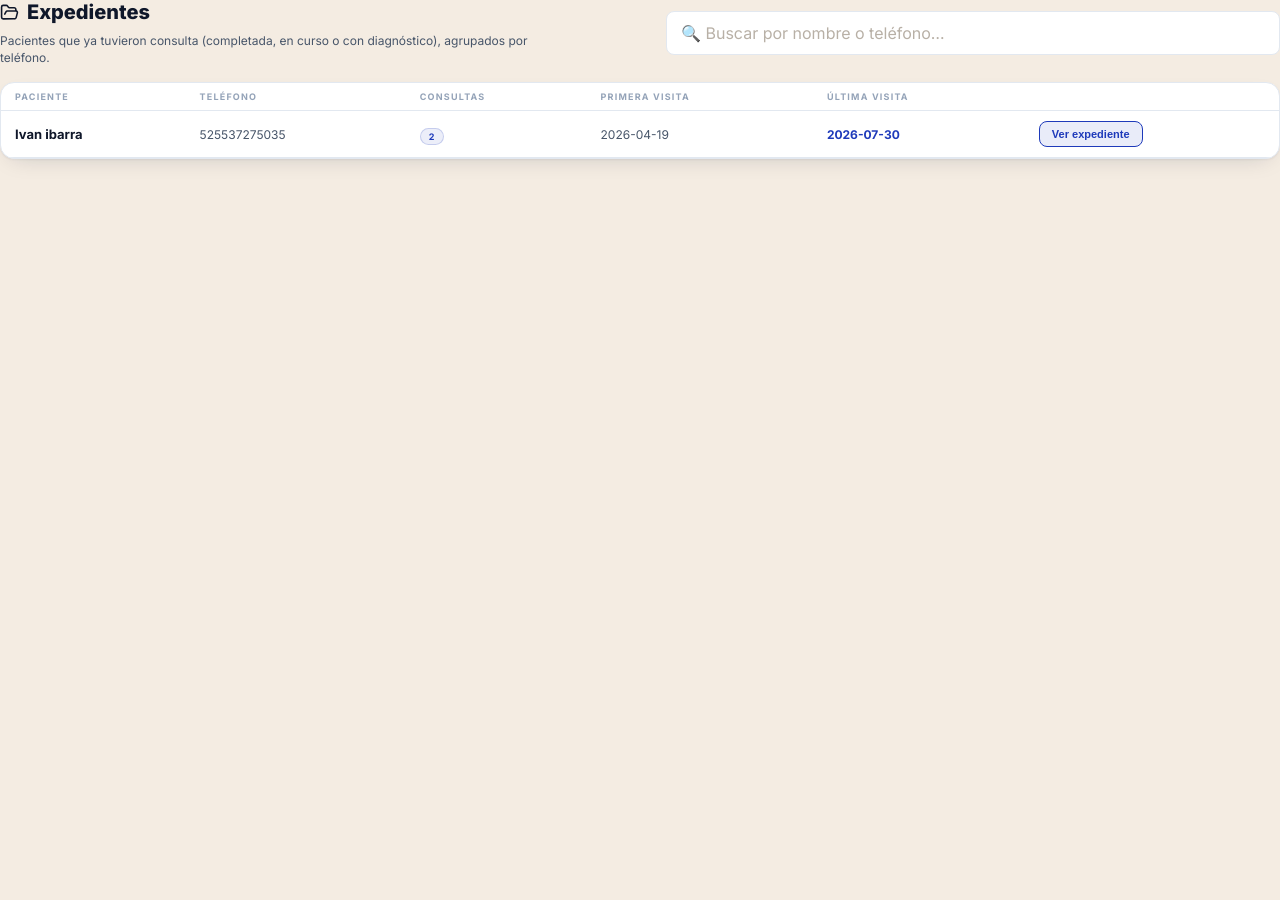
Test case: cerrar la ficha vuelve al expediente del paciente, no a la lista
Check: the text "Ivan ibarra" is shown, box [1,111,186,158]
Click the button "Ver expediente".
click(1091, 134)  # box [1039,121,1143,147]
(page scrolled)
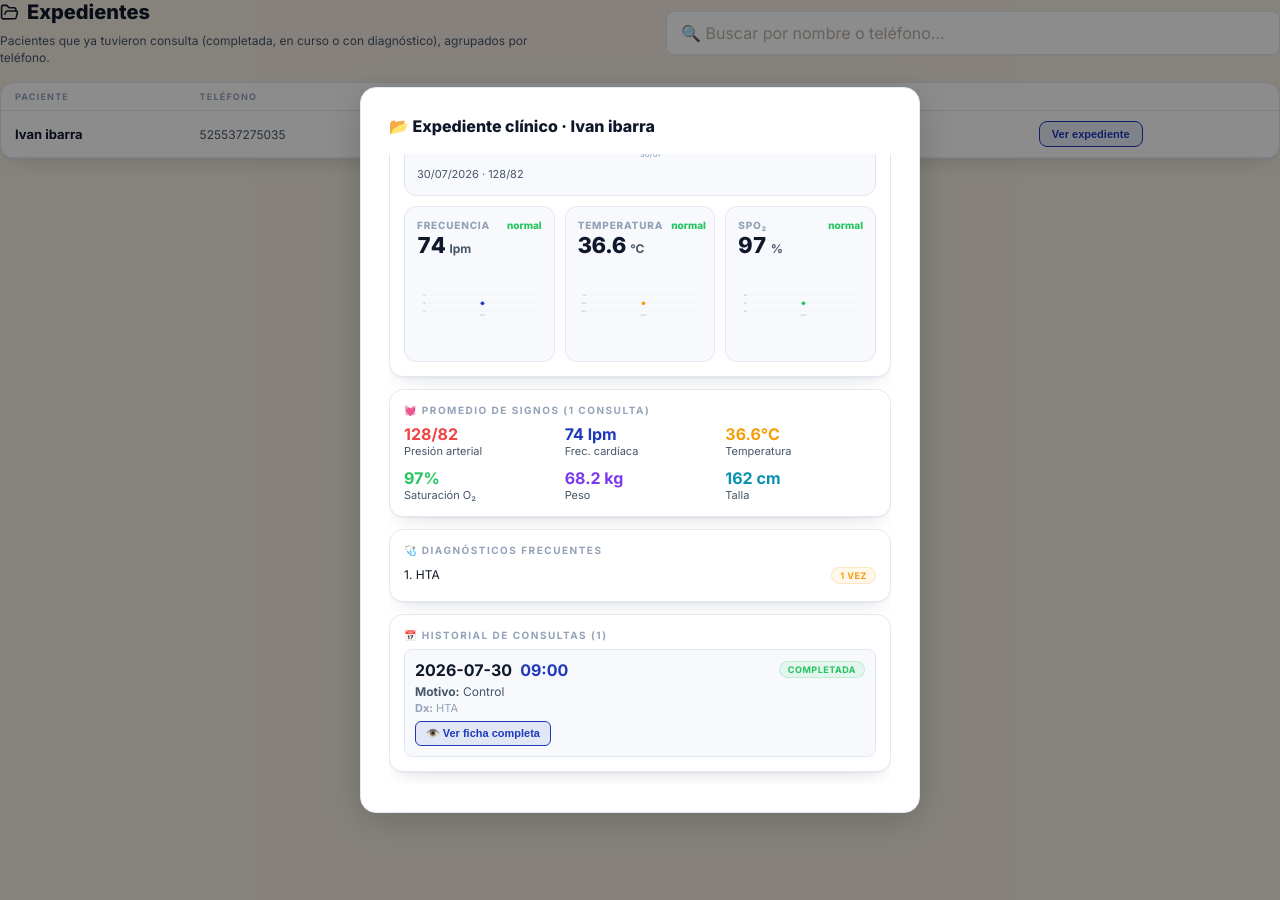
Check: the text "📅 Historial de consultas (1)" is shown, box [404,629,608,641]
Click the button "👁️ Ver ficha completa".
click(483, 733)  # box [415,721,551,746]
(page scrolled)
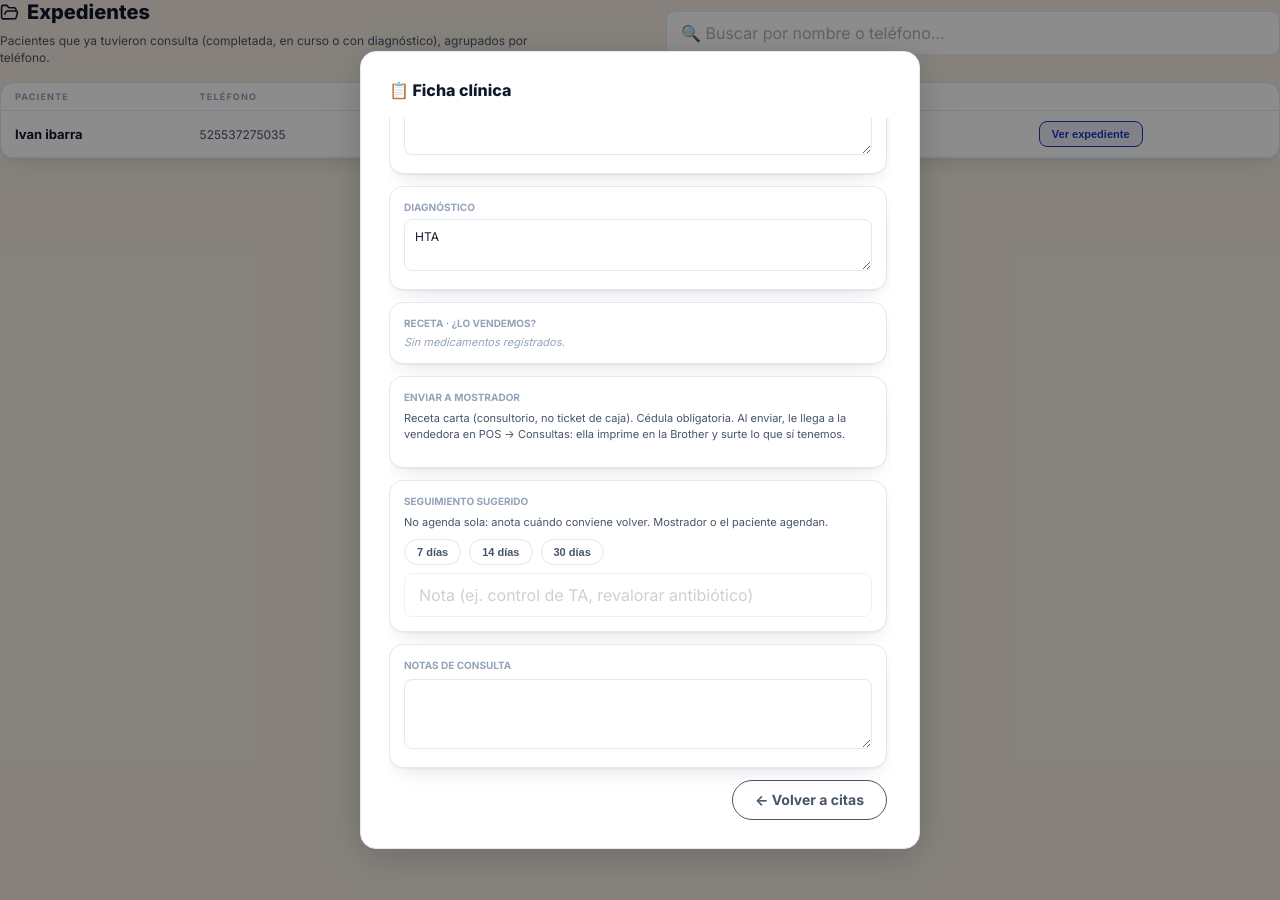
Check: the button "← Volver a citas" is shown
Check: the text "Historial de consultas" is gone
Click the button "← Volver a citas".
click(810, 800)  # box [732,780,887,820]
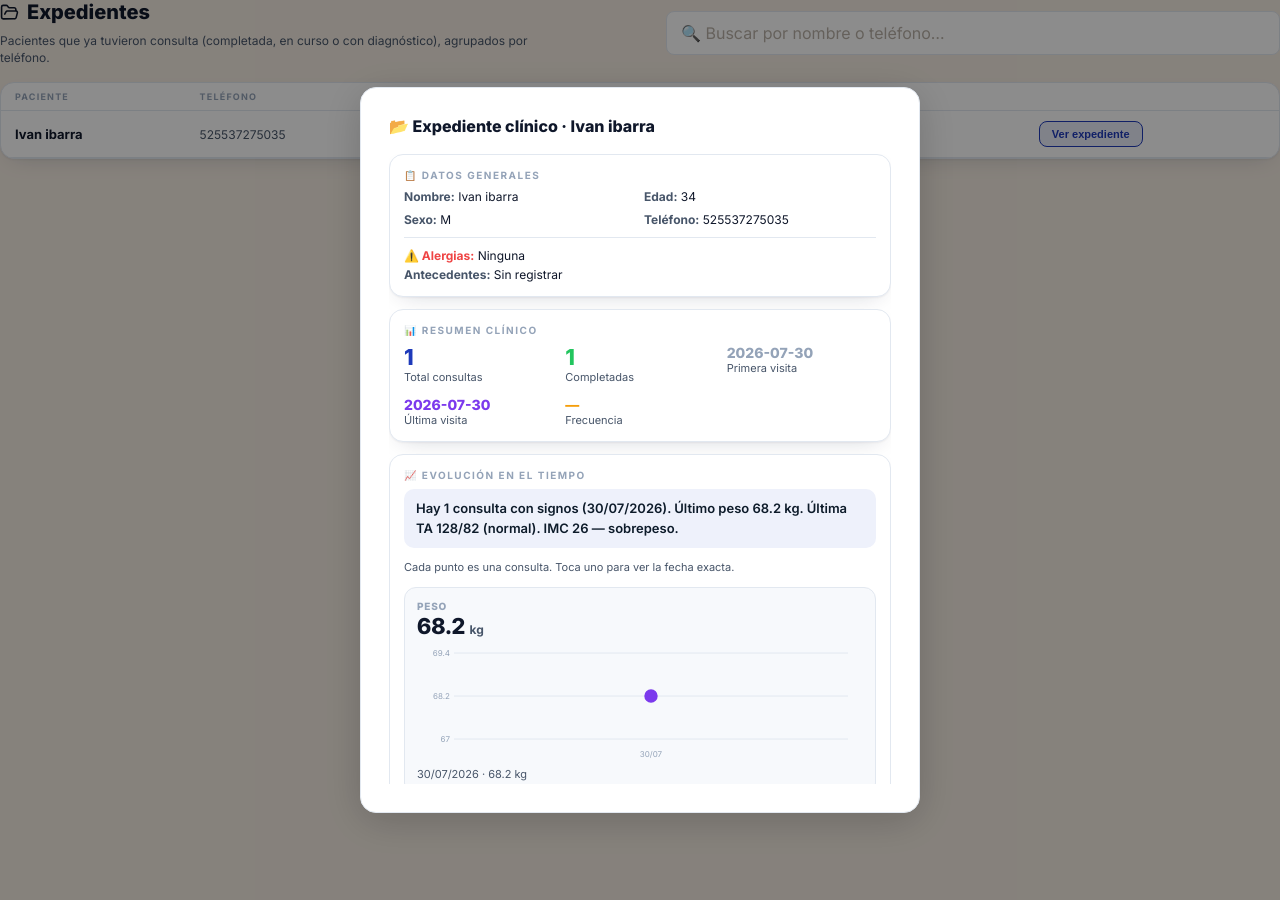
Check: the heading "Expedientes" is shown, box [0,0,150,24]
Check: the text "📂 Expediente clínico · Ivan ibarra" is shown, box [389,116,655,136]
